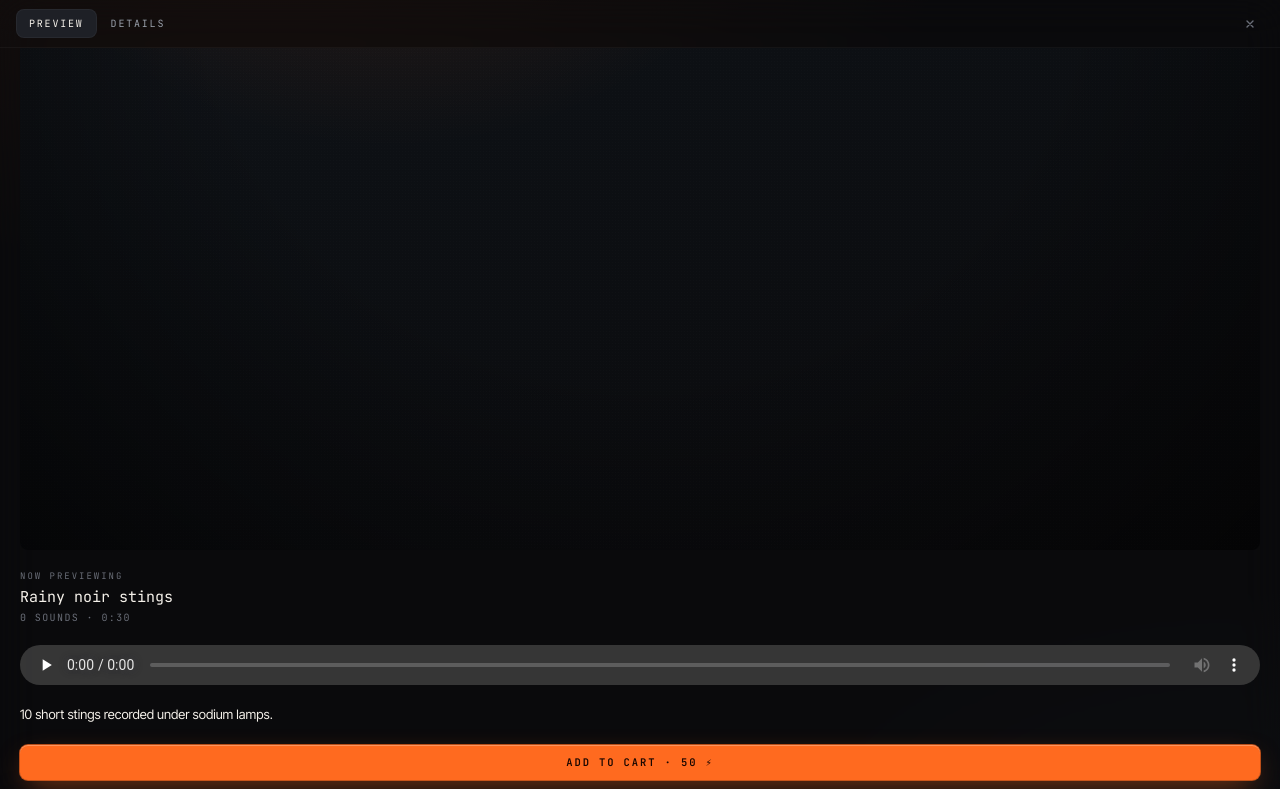
it: PackDetailPanel › Add to cart inserts into cartStore and flips CTA to View cart
(page scrolled)
Click the button with test id "pack-add-to-cart" at [640, 762], box [20,744,1260,780]
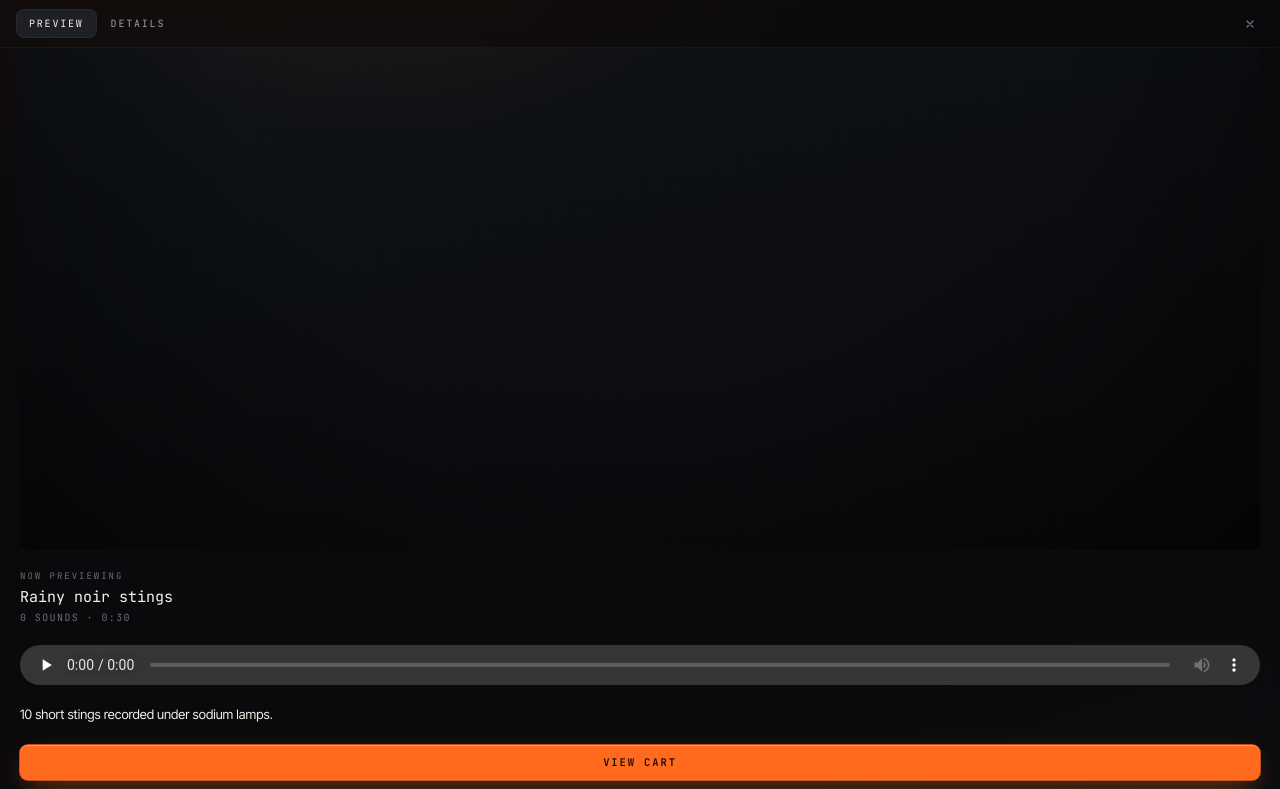
Expected: the button with test id "pack-open-cart" is shown, [20,744,1260,780]
Expected: the button with test id "pack-add-to-cart" is gone
